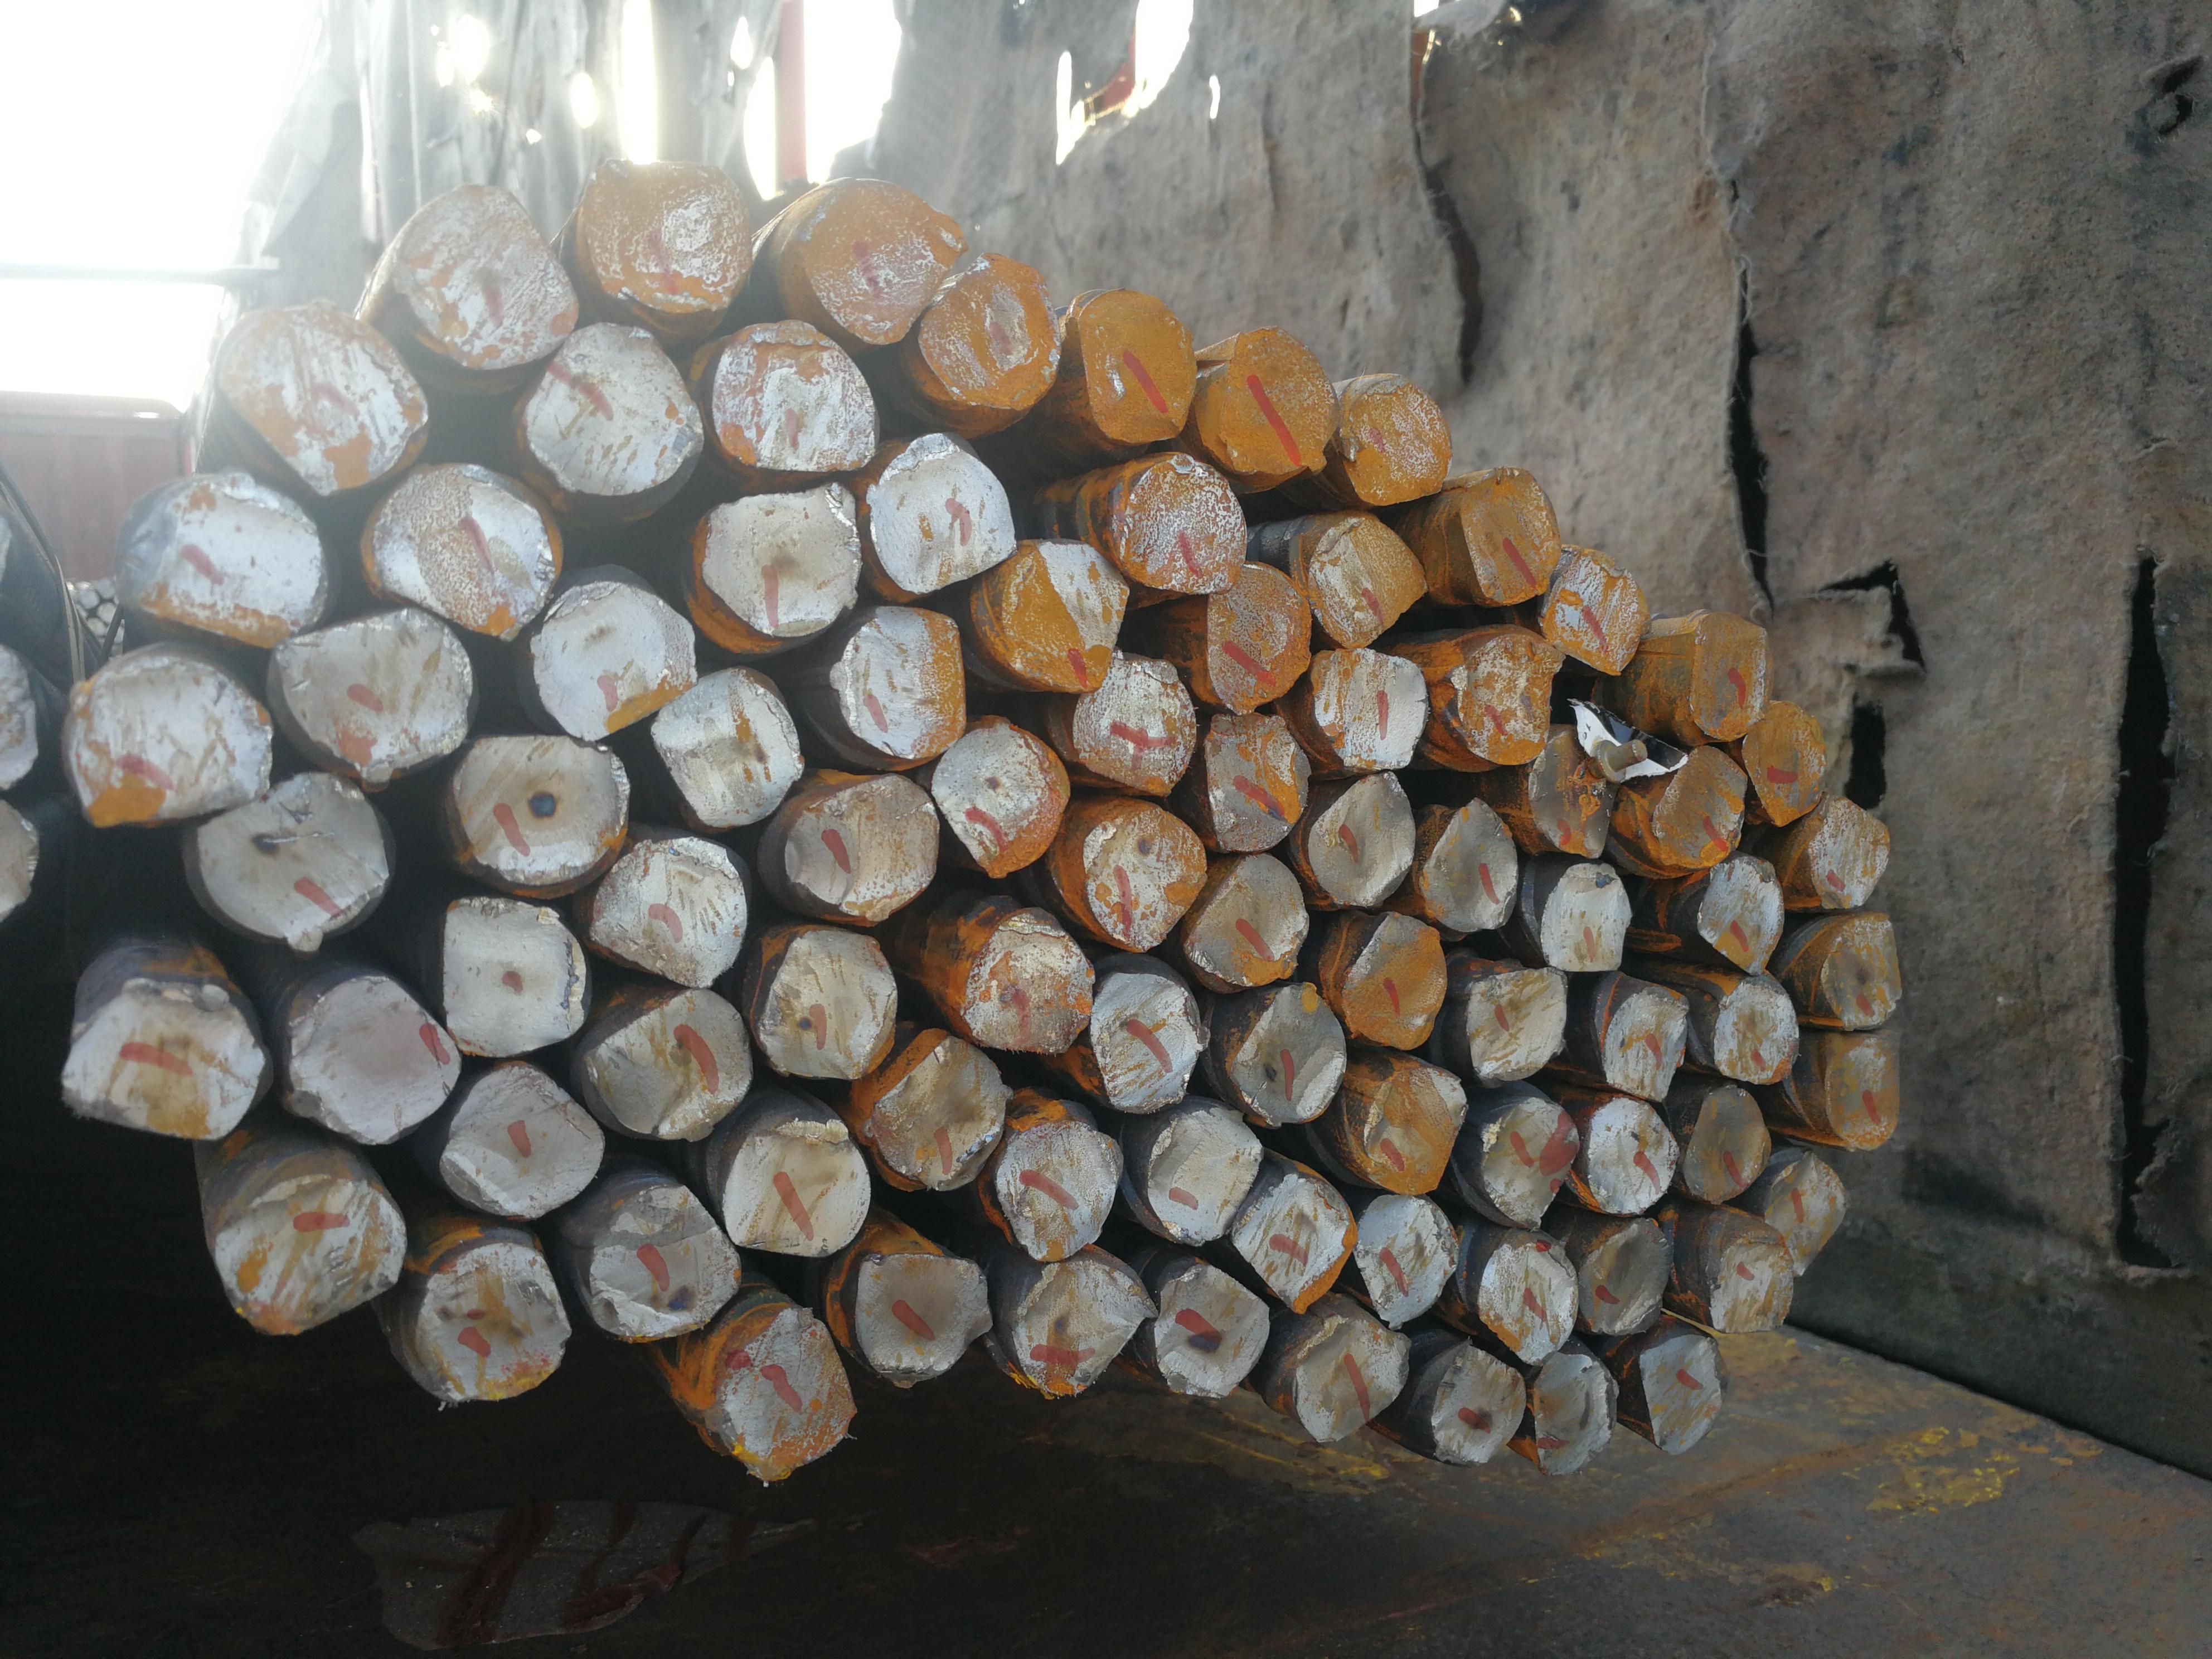rebar: (213, 309, 430, 496), (187, 1165, 411, 1346), (265, 608, 477, 797), (186, 772, 396, 960), (52, 975, 277, 1145), (379, 183, 576, 373), (58, 661, 275, 833), (358, 459, 556, 646), (519, 322, 704, 508), (284, 969, 464, 1146), (528, 564, 700, 750), (138, 480, 330, 644), (700, 313, 885, 479), (586, 145, 752, 329), (780, 180, 966, 343), (452, 722, 633, 889), (434, 1059, 607, 1230), (589, 827, 763, 996), (860, 422, 1024, 600), (411, 1233, 569, 1417), (706, 1299, 861, 1486), (581, 1179, 745, 1354), (695, 472, 862, 641), (589, 981, 760, 1147), (644, 670, 812, 834), (912, 246, 1068, 421), (713, 1105, 882, 1265), (433, 888, 592, 1060), (850, 1025, 1013, 1185), (781, 771, 945, 929), (744, 916, 896, 1080), (929, 713, 1074, 884), (1065, 287, 1200, 469), (1107, 435, 1253, 605), (828, 604, 974, 762), (1008, 1254, 1157, 1405), (950, 911, 1096, 1064), (1192, 321, 1325, 488), (842, 1245, 999, 1386), (1071, 802, 1212, 953), (1439, 459, 1566, 626), (989, 1109, 1121, 1267), (1146, 1253, 1274, 1417), (1199, 557, 1322, 724), (1002, 539, 1130, 697), (1065, 653, 1204, 801), (1325, 361, 1460, 510), (1083, 963, 1207, 1123), (1225, 974, 1347, 1134), (1191, 708, 1315, 866), (1296, 512, 1434, 648), (1139, 1105, 1265, 1253), (1359, 1051, 1473, 1210), (1290, 1305, 1413, 1454), (1233, 1161, 1353, 1310), (1184, 846, 1310, 987), (1301, 771, 1418, 911), (1532, 543, 1657, 676), (1419, 789, 1533, 933), (1347, 1190, 1459, 1336), (1736, 692, 1851, 832), (1473, 1094, 1583, 1234), (1337, 913, 1450, 1047), (1322, 641, 1427, 780), (1642, 739, 1750, 871), (1515, 720, 1623, 850), (1457, 963, 1573, 1084), (1450, 629, 1554, 764), (1426, 1344, 1529, 1477), (1679, 611, 1779, 744), (1473, 1240, 1582, 1362), (1529, 1343, 1623, 1484), (1580, 1088, 1681, 1217), (1681, 1076, 1773, 1210), (1535, 857, 1638, 976), (1821, 1026, 1913, 1157), (1594, 983, 1692, 1103), (1576, 1219, 1673, 1341), (1636, 1332, 1725, 1460), (1692, 849, 1786, 974), (1816, 910, 1909, 1035), (1808, 789, 1894, 916), (1708, 976, 1803, 1090), (1766, 1156, 1853, 1277), (1705, 1238, 1798, 1341)
